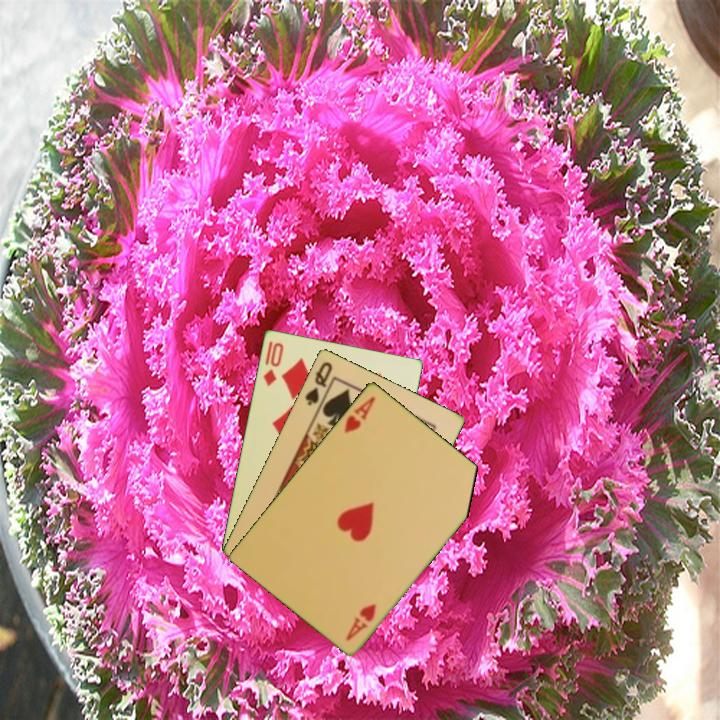10d: (259, 337, 286, 389)
Ah: (340, 392, 378, 436), (342, 600, 379, 643)
Qs: (301, 357, 335, 408)
